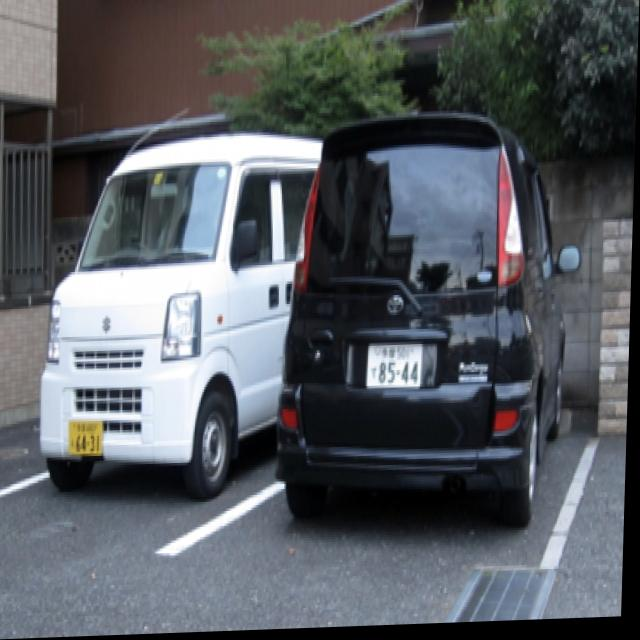licence: (368, 343, 424, 392), (71, 419, 105, 450)
